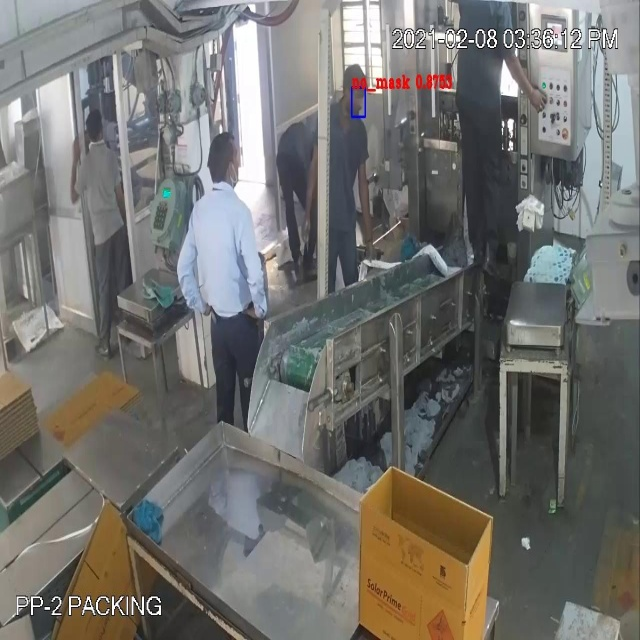Sin_guantes: (499, 18, 552, 120), (237, 228, 283, 340), (165, 228, 213, 328), (353, 142, 382, 286), (296, 127, 329, 249), (61, 132, 92, 204)
